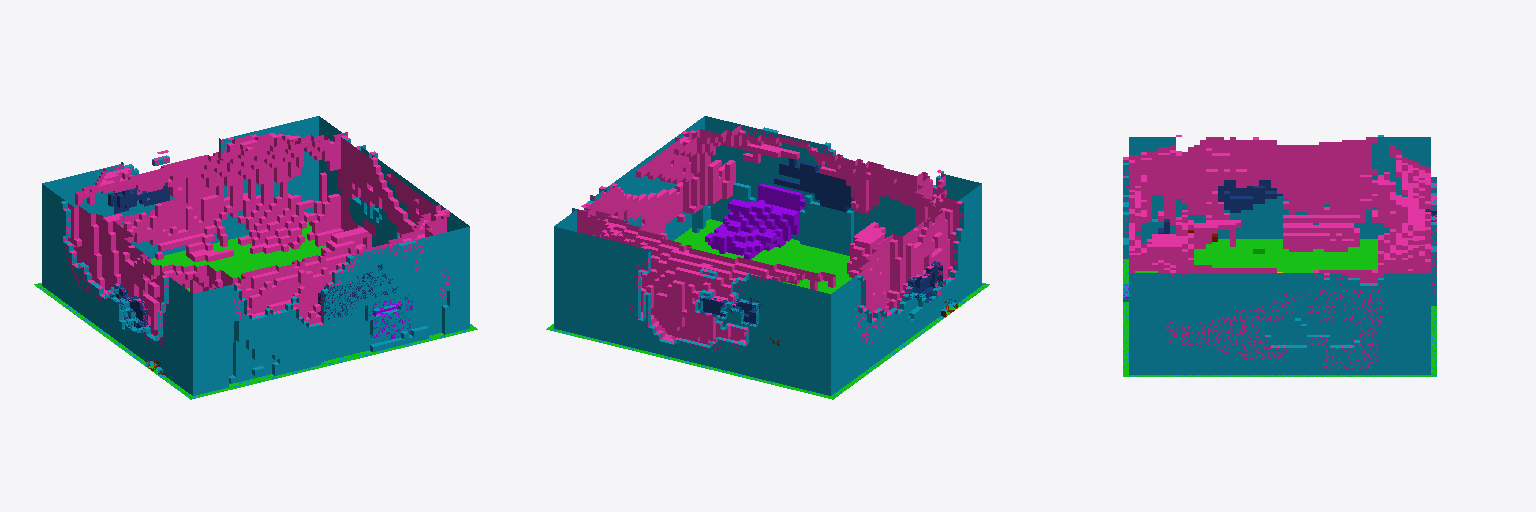
File: Input_prediction.obj
3 renders of one model, left to right at view 1: azimuth 30°, elevation 25°; view 2: azimuth 150°, elevation 25°; view 3: azimuth 270°, elevation 25°, orthographic.
Parts seen in each view (by area): view 1: Cube; view 2: Cube; view 3: Cube.
Boxes of the visible parts, box(x1,y1,x2,y2) form: Cube: box(34, 116, 477, 399); Cube: box(546, 116, 989, 399); Cube: box(1123, 135, 1436, 376).
Bounding box in the file's own units: 4.48 × 1.52 × 4.24.